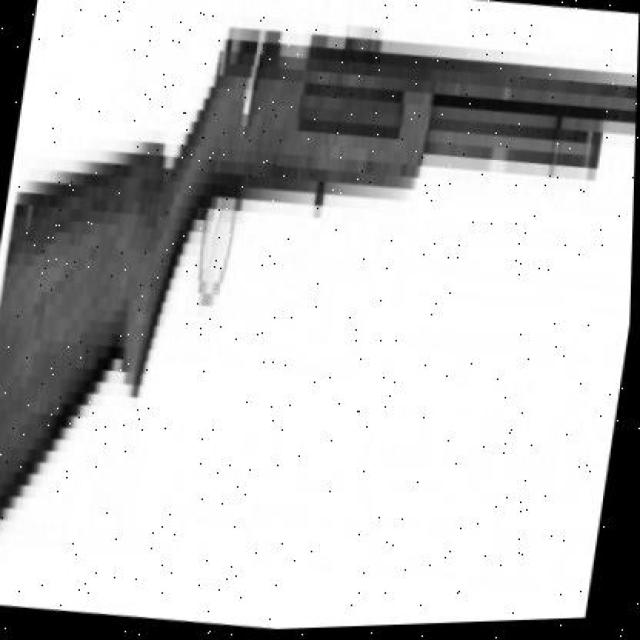weapon: (1, 28, 640, 524)
